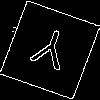Y: (24, 25, 74, 80)
